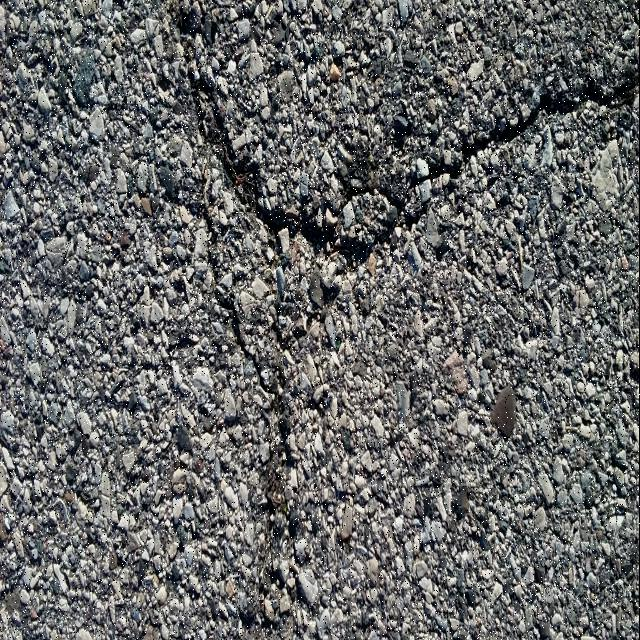Crack: (162, 1, 640, 640)
